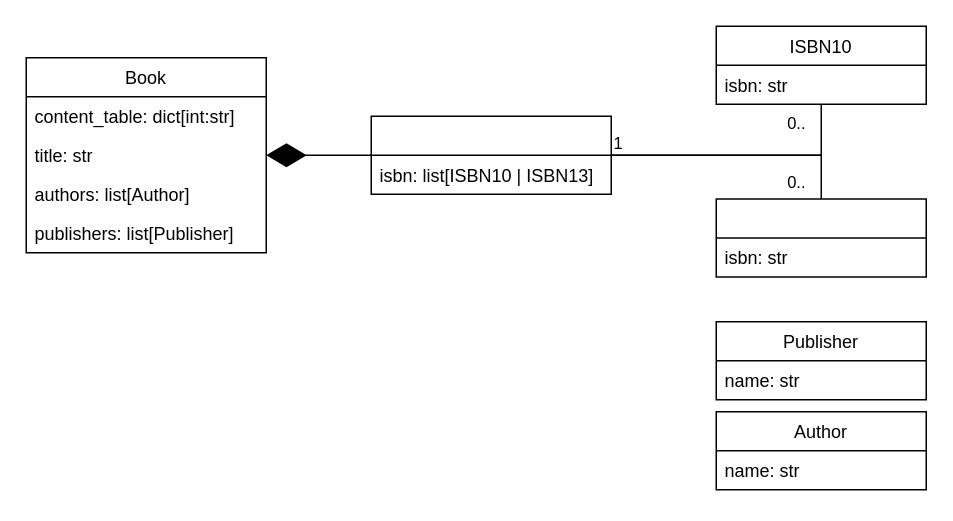
Some shapes in this 953 by 521 pixel diagram are drawn without their labels. The shapes that lost their labels are listed below. From the top down, each one's box as (x1, y1, x2, y2) in pixels, then its label:
(370, 115, 611, 194): ISBNS
(715, 197, 926, 277): ISBN13
